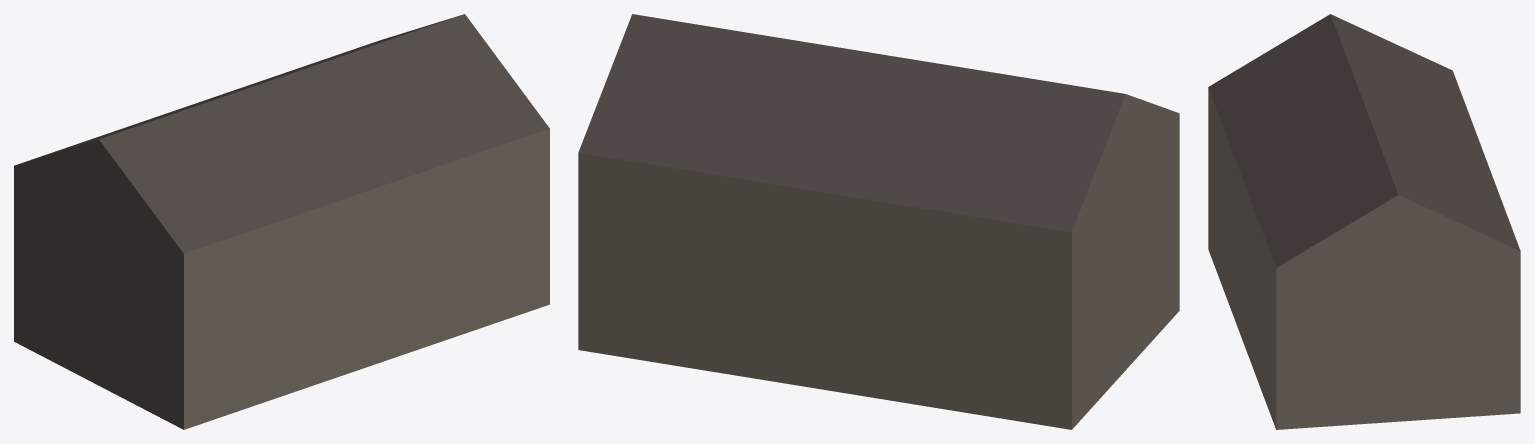
3 renders of one model, left to right at view 1: azimuth 30°, elevation 25°; view 2: azimuth 150°, elevation 25°; view 3: azimuth 270°, elevation 25°, orthographic. The views are drawn at different scales.
Parts seen in each view (by area): view 1: HP-w449041503; view 2: HP-w449041503; view 3: HP-w449041503.
Boxes of the visible parts, <box> form: HP-w449041503: <box>14,14,549,429</box>; HP-w449041503: <box>578,14,1179,429</box>; HP-w449041503: <box>1208,14,1520,429</box>.
Size of the model in its own units: 23.54 by 12.6 by 15.74.
